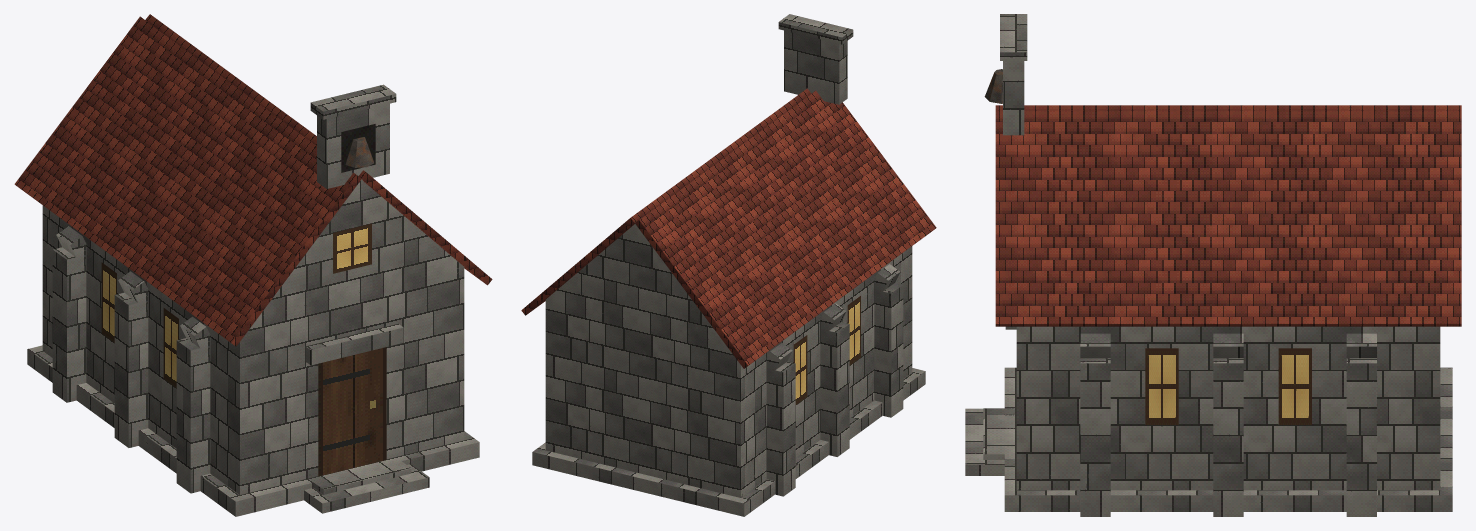
The model's file is capilla.obj.
The picture shows the model from 3 angles, left to right: view 1: azimuth 30°, elevation 25°; view 2: azimuth 150°, elevation 25°; view 3: azimuth 270°, elevation 25°; orthographic projection. The views are drawn at different scales.
Visible parts, largest first — view 1: capilla; view 2: capilla; view 3: capilla.
Boxes of the visible parts, x1,y1,x2,y2 form: capilla: (14, 14, 492, 516); capilla: (521, 14, 936, 516); capilla: (965, 14, 1461, 516).
Bounding box in the file's own units: 5.4 × 7.56 × 8.2.
Materials: 6 (6 with a texture image).
